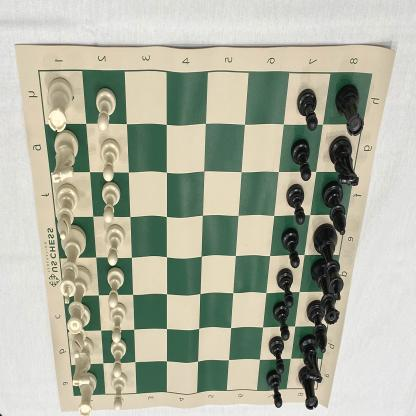black-bishop: (322, 182, 347, 236), (306, 300, 328, 353)
black-king: (312, 223, 344, 302)
black-knight: (329, 135, 359, 187), (299, 334, 322, 384)
black-pawn: (290, 140, 312, 181), (297, 89, 318, 131), (286, 184, 306, 224), (271, 302, 290, 341), (276, 268, 294, 308), (282, 228, 300, 267), (267, 370, 283, 411), (269, 336, 286, 374)
black-queen: (311, 259, 341, 326)
black-rook: (335, 86, 364, 136), (298, 367, 319, 409)
white-bishop: (54, 183, 79, 240), (70, 304, 90, 358)
white-king: (58, 224, 86, 305)
white-knight: (51, 130, 79, 184), (71, 337, 95, 388)
white-pawn: (95, 87, 117, 134), (99, 139, 121, 183), (103, 224, 125, 266), (99, 182, 121, 224), (104, 268, 125, 308), (108, 302, 126, 343), (108, 374, 127, 410), (108, 339, 126, 377)
white-queen: (66, 265, 92, 335)
white-rook: (44, 76, 73, 133), (77, 372, 97, 416)
